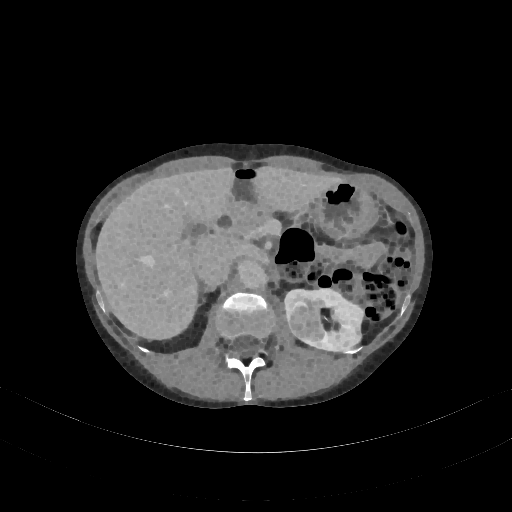Lesion: (287, 302, 325, 342)
